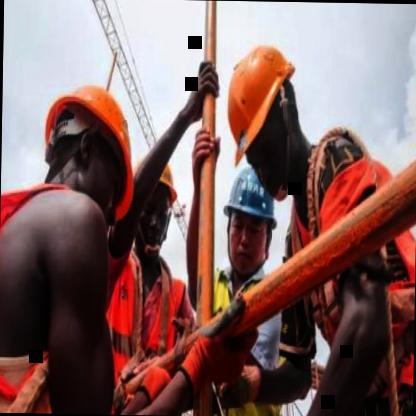helmet: (34, 65, 140, 217), (219, 42, 304, 200), (218, 153, 280, 277), (128, 150, 179, 258)
